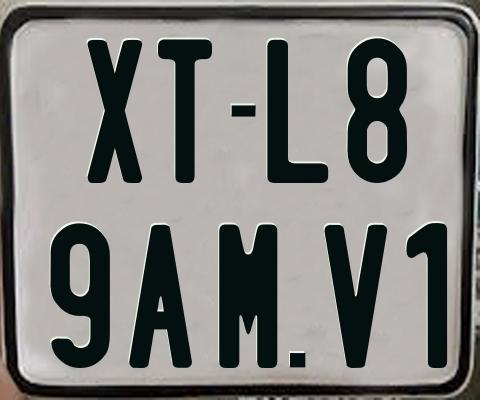1: (405, 222, 448, 367)
8: (344, 38, 404, 189)
9: (49, 223, 114, 373)
A: (126, 222, 195, 370)
L: (267, 38, 331, 184)
M: (216, 221, 275, 371)
T: (157, 39, 213, 188)
V: (325, 224, 390, 370)
X: (86, 40, 142, 183)
